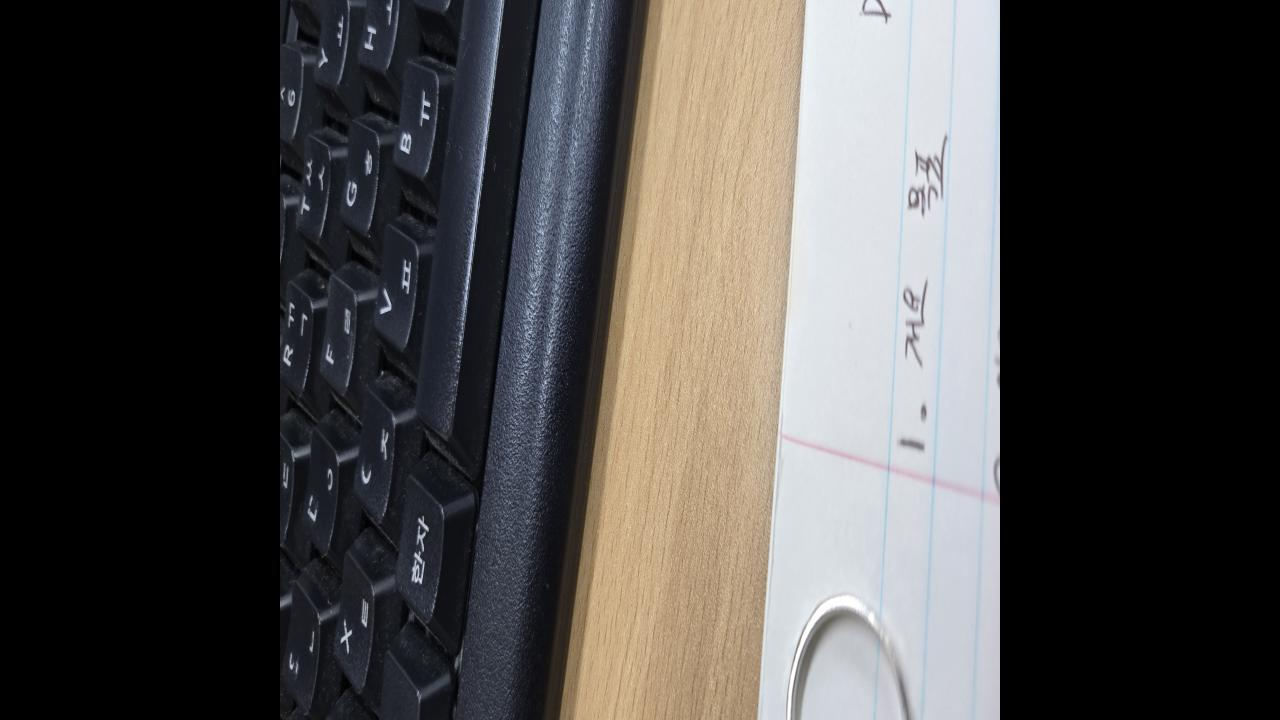ring: (784, 588, 914, 720)
